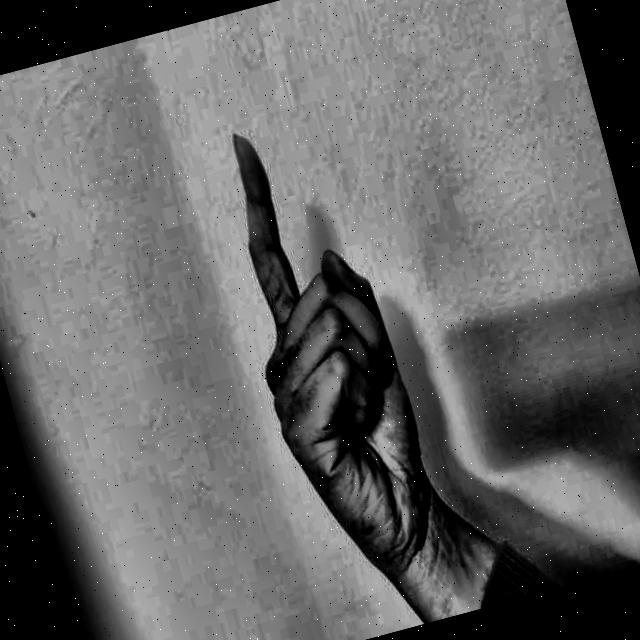U: (173, 74, 480, 577)
